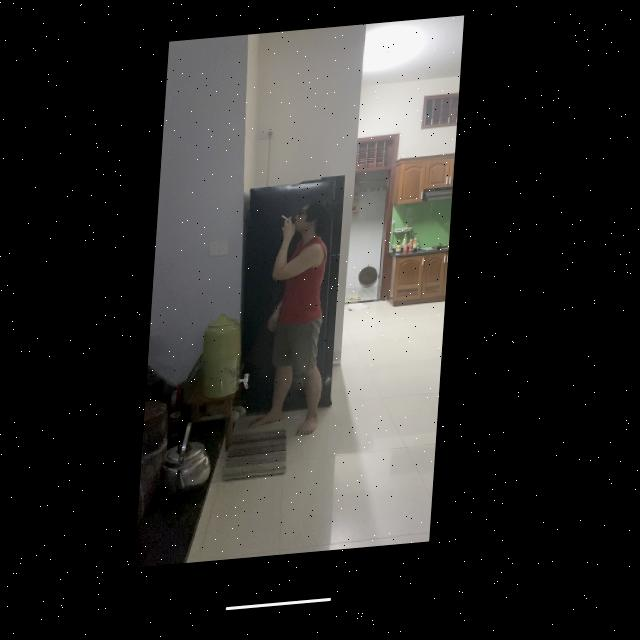cigarette: (284, 220, 291, 226)
